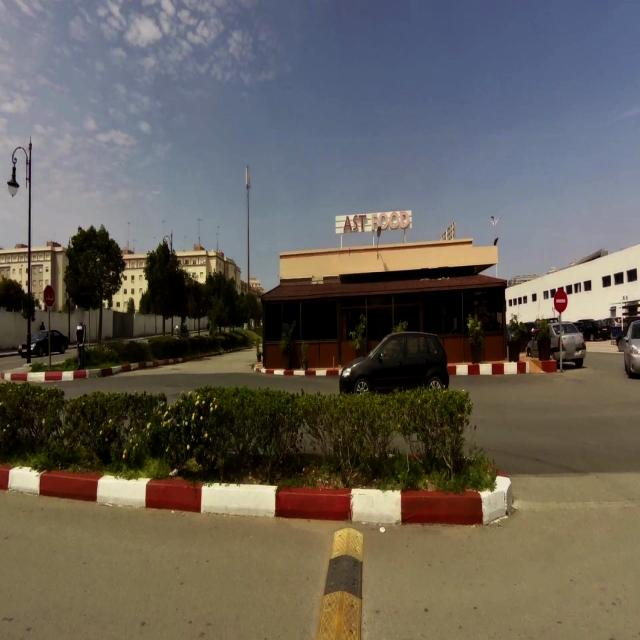car: (338, 328, 449, 394), (547, 320, 586, 368), (19, 328, 69, 359), (623, 318, 640, 379)
